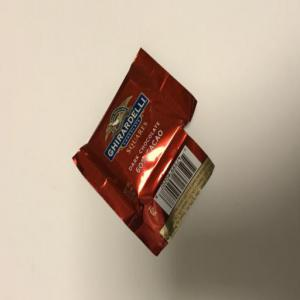Trash: (72, 47, 216, 257)
